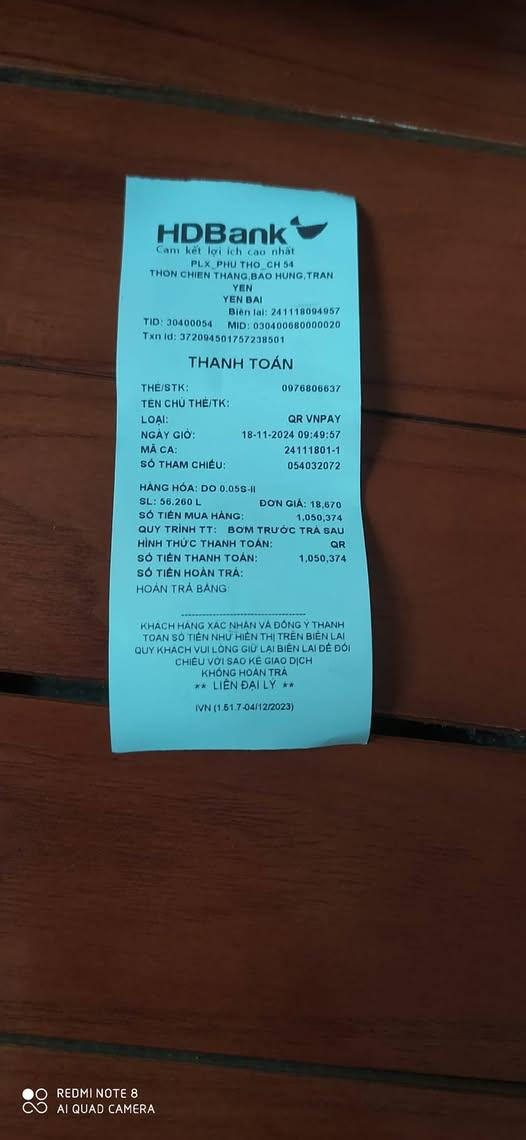receipt: (118, 207, 362, 607)
